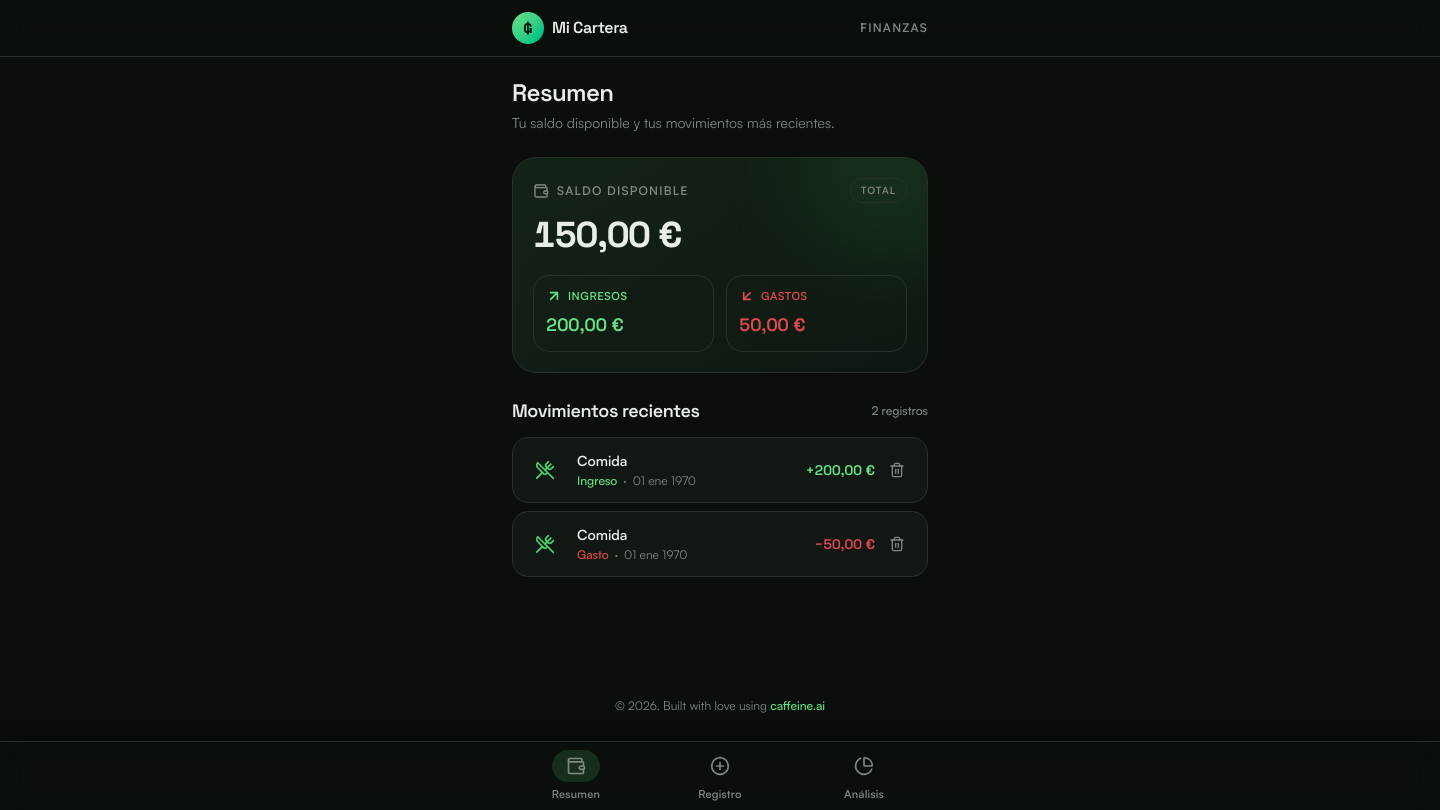
Test case: Resumen › deletes a transaction after confirmation and recalculates the balance
Expected: the text with test id "summary.balance_value" shows "150,00", [533,212,682,258]
Click the button with test id "summary.delete_button.2": coordinates (897, 544) [879,526,915,562]
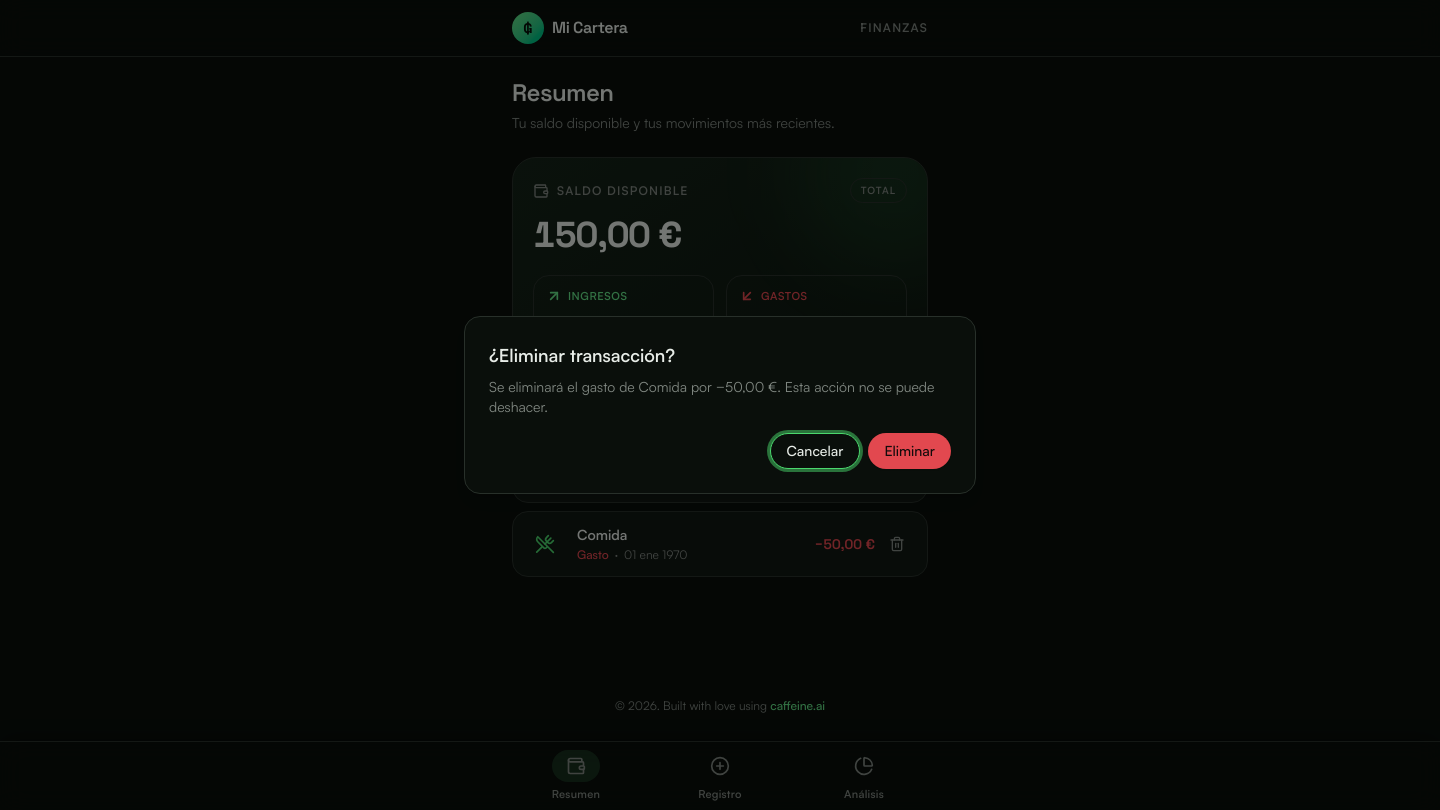
Expected: the heading "¿Eliminar transacción?" is shown, [489,344,675,366]
Click the button with test id "summary.confirm_button.2": coordinates (910, 451) [868,433,951,469]
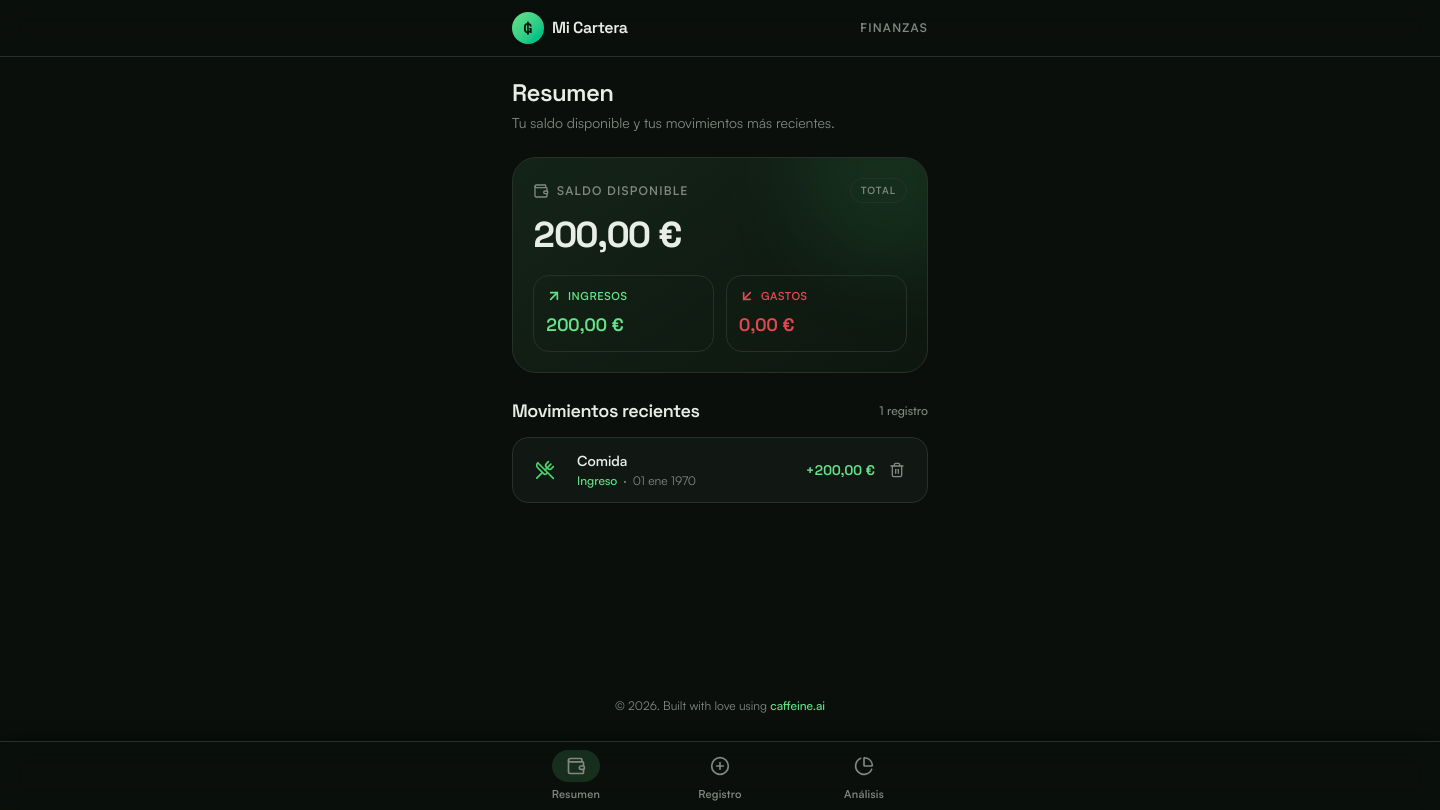
Expected: the element with test id "summary.expense_total" shows "0,00", [739,312,794,336]
Expected: the text with test id "summary.balance_value" shows "200,00", [533,212,682,258]
